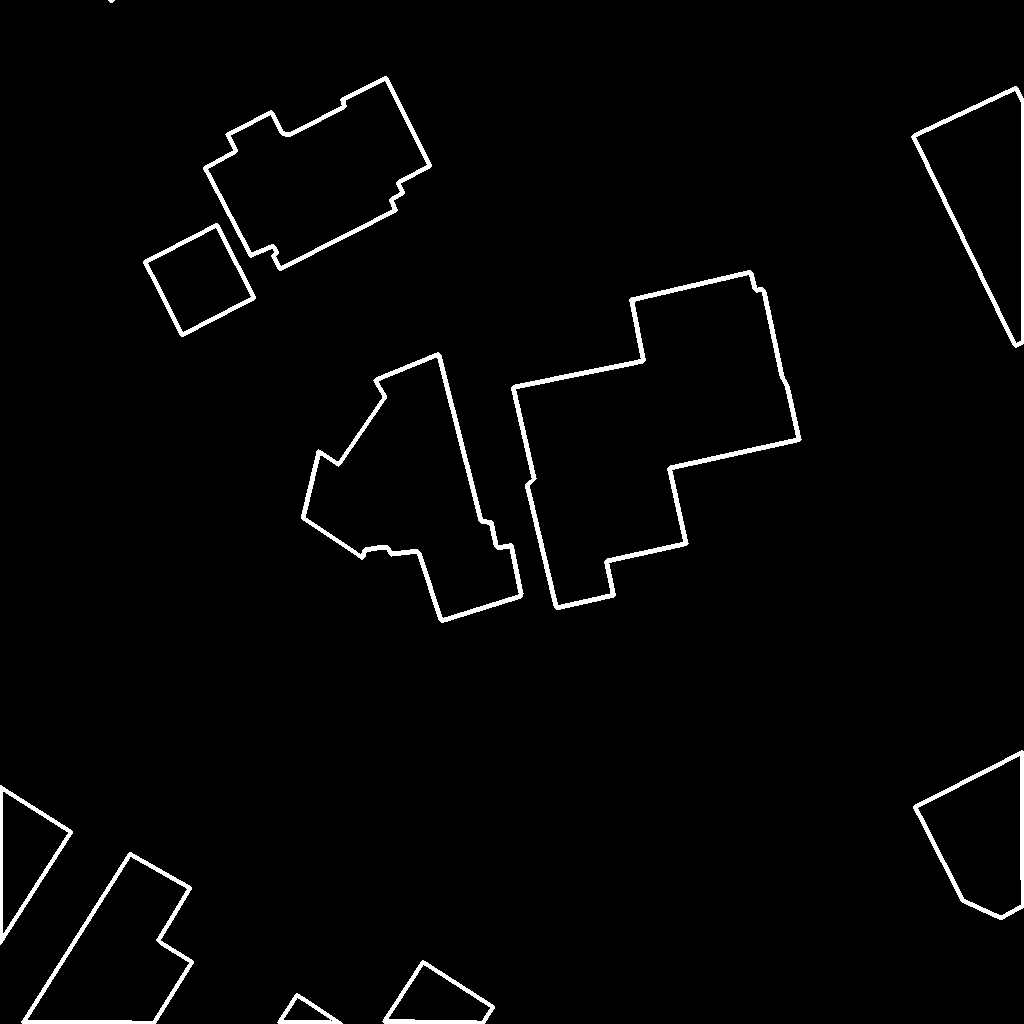building: (513, 272, 800, 609), (303, 354, 522, 622), (205, 78, 431, 270), (23, 854, 193, 1024), (913, 88, 1024, 347), (915, 752, 1024, 919), (145, 225, 255, 336), (0, 787, 72, 944), (384, 962, 494, 1024), (279, 995, 342, 1024), (110, 0, 114, 2)
